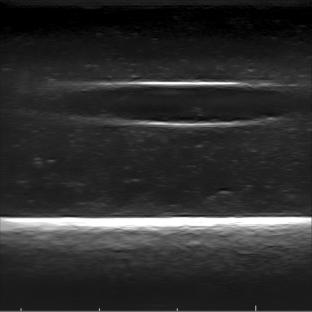vessel: (59, 79, 286, 129)
